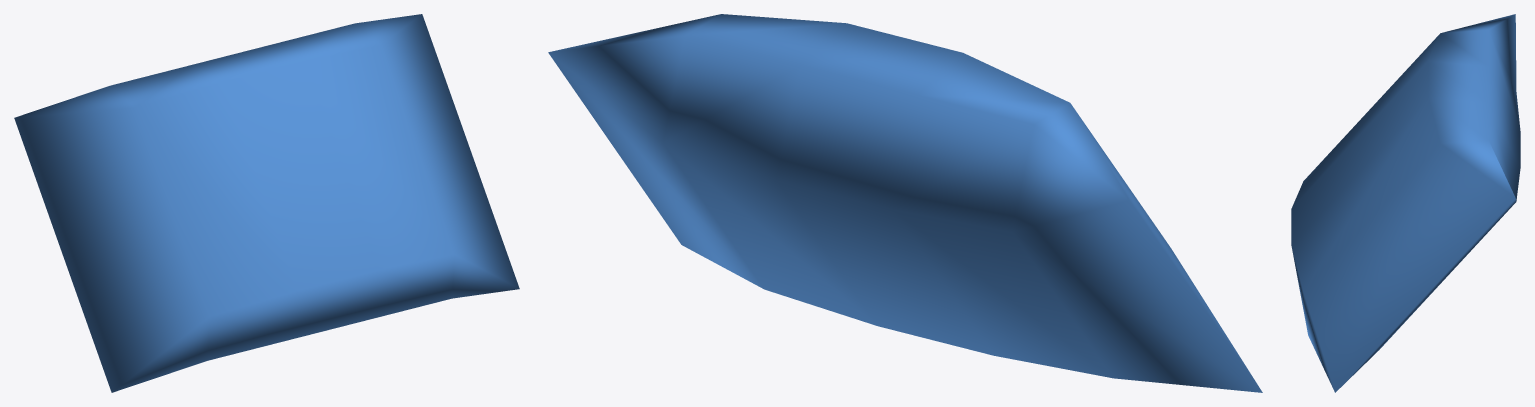
File: Childroom2_Pillow_2.fbx
3 views of the same model, side by side, from view 1: azimuth 30°, elevation 25°; view 2: azimuth 150°, elevation 25°; view 3: azimuth 270°, elevation 25° (orthographic). The views are drawn at different scales.
Visible parts, largest first — view 1: Childroom2_Pillow_2; view 2: Childroom2_Pillow_2; view 3: Childroom2_Pillow_2.
Boxes of the visible parts, box(x1,y1,x2,y2) form: Childroom2_Pillow_2: box(14, 14, 519, 392); Childroom2_Pillow_2: box(548, 14, 1262, 392); Childroom2_Pillow_2: box(1291, 14, 1520, 392).
Size of the model in its own units: 89.68 by 49.41 by 45.96.
